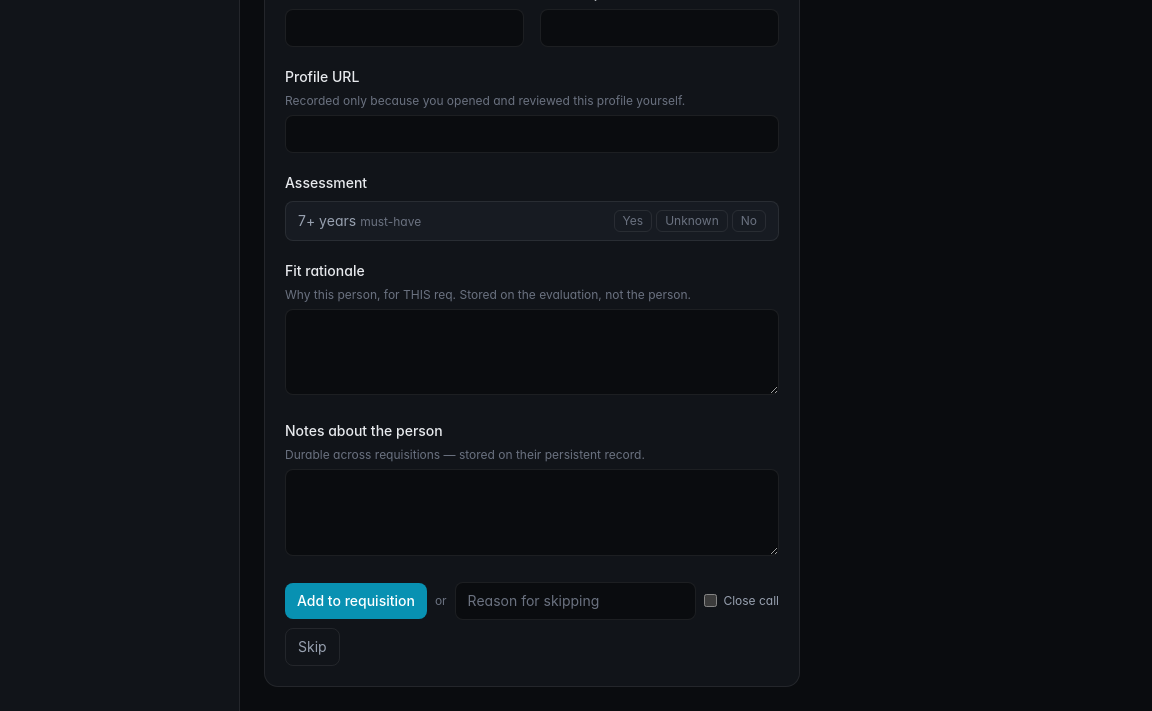
Test case: capturing during a session › refuses an unnamed capture
This screenshot has width=1152, height=711.
(page scrolled)
Click the button "Add to requisition": coordinates (356, 600) [285,582,427,618]
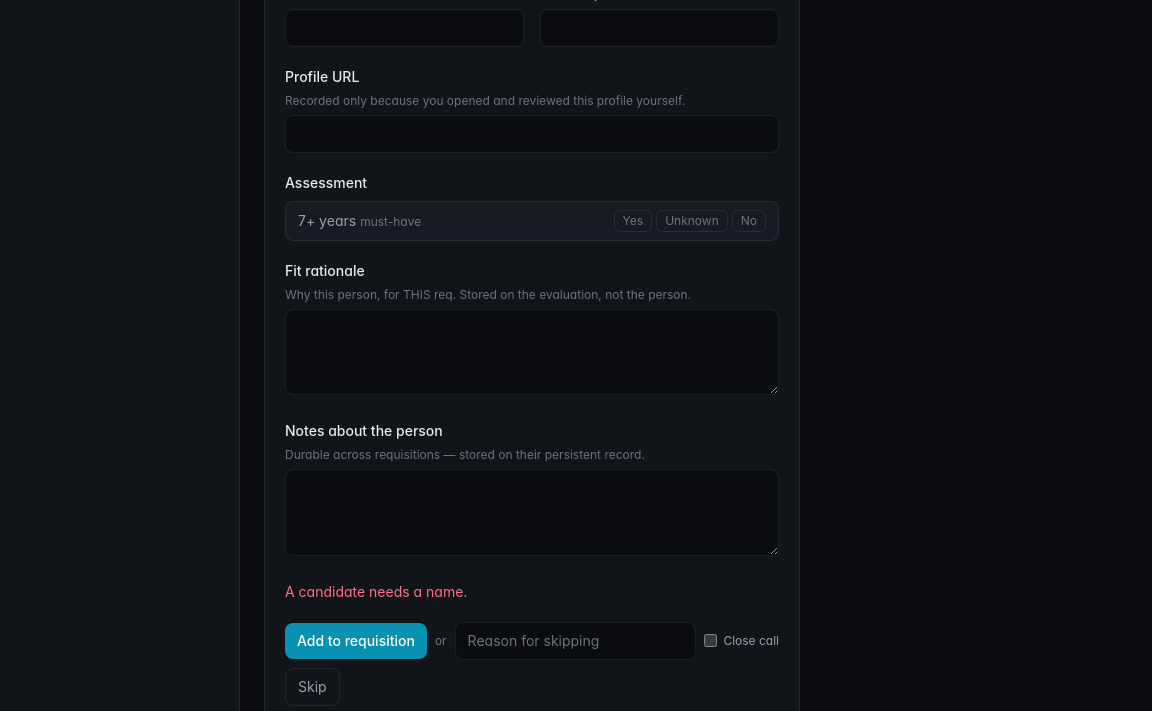
Result: the message shows "needs a name" at [285,582,467,600]
